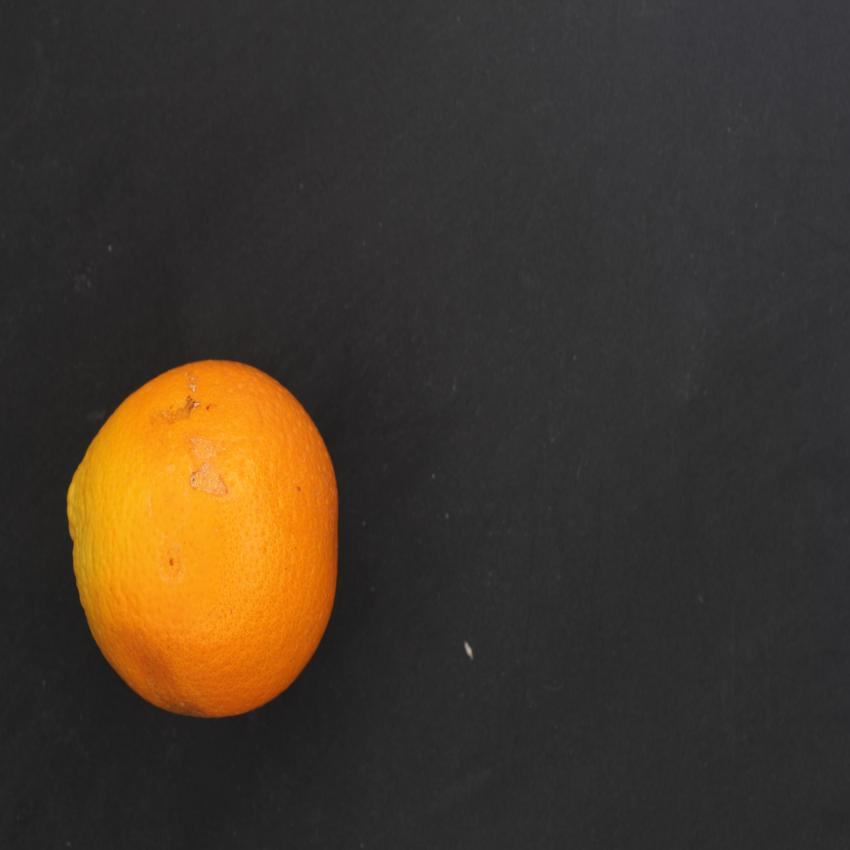Mal estado: (56, 350, 360, 746)
